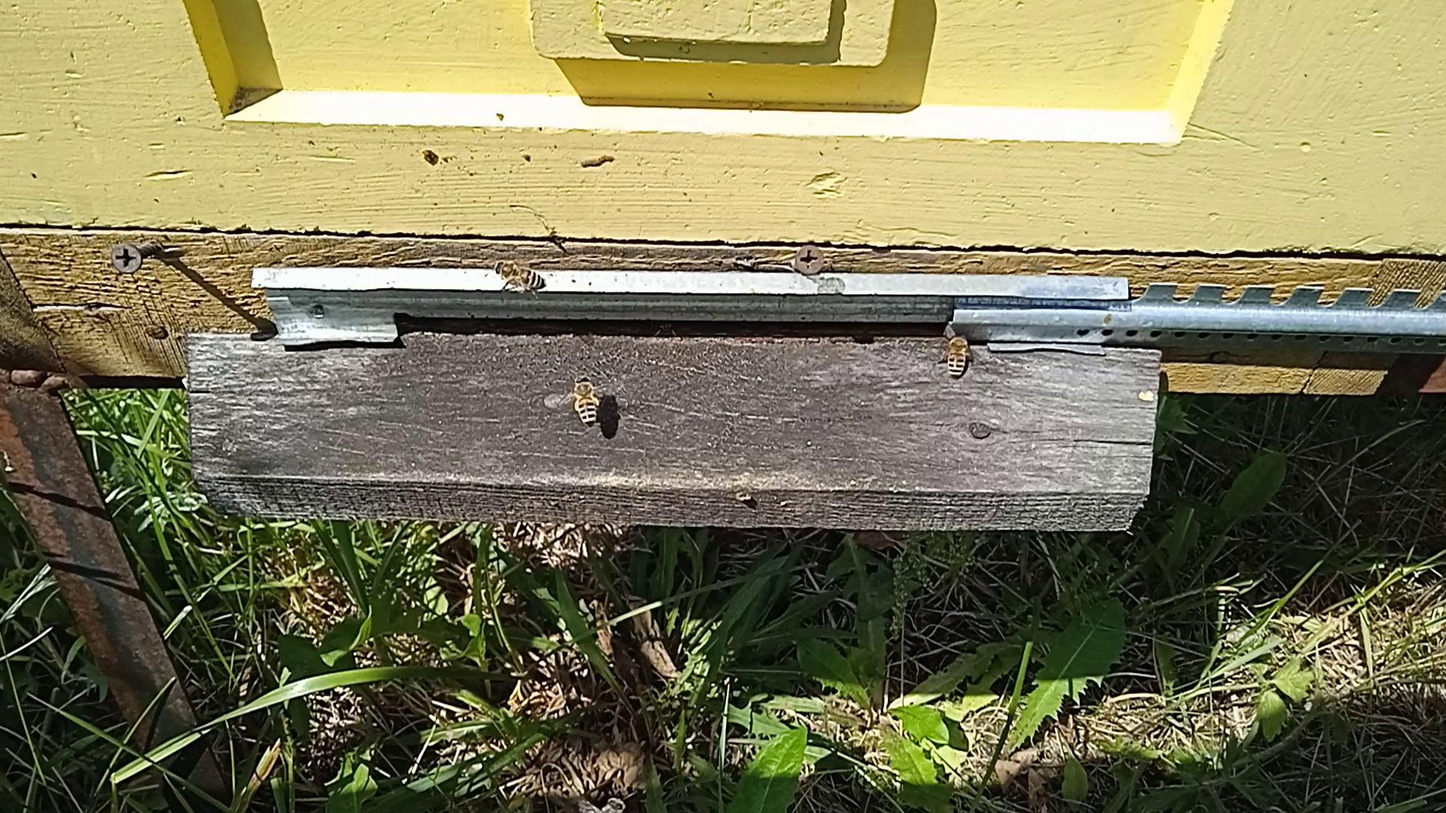worker-bee: (493, 259, 546, 291), (569, 374, 601, 426), (943, 333, 973, 380), (585, 797, 627, 813)
